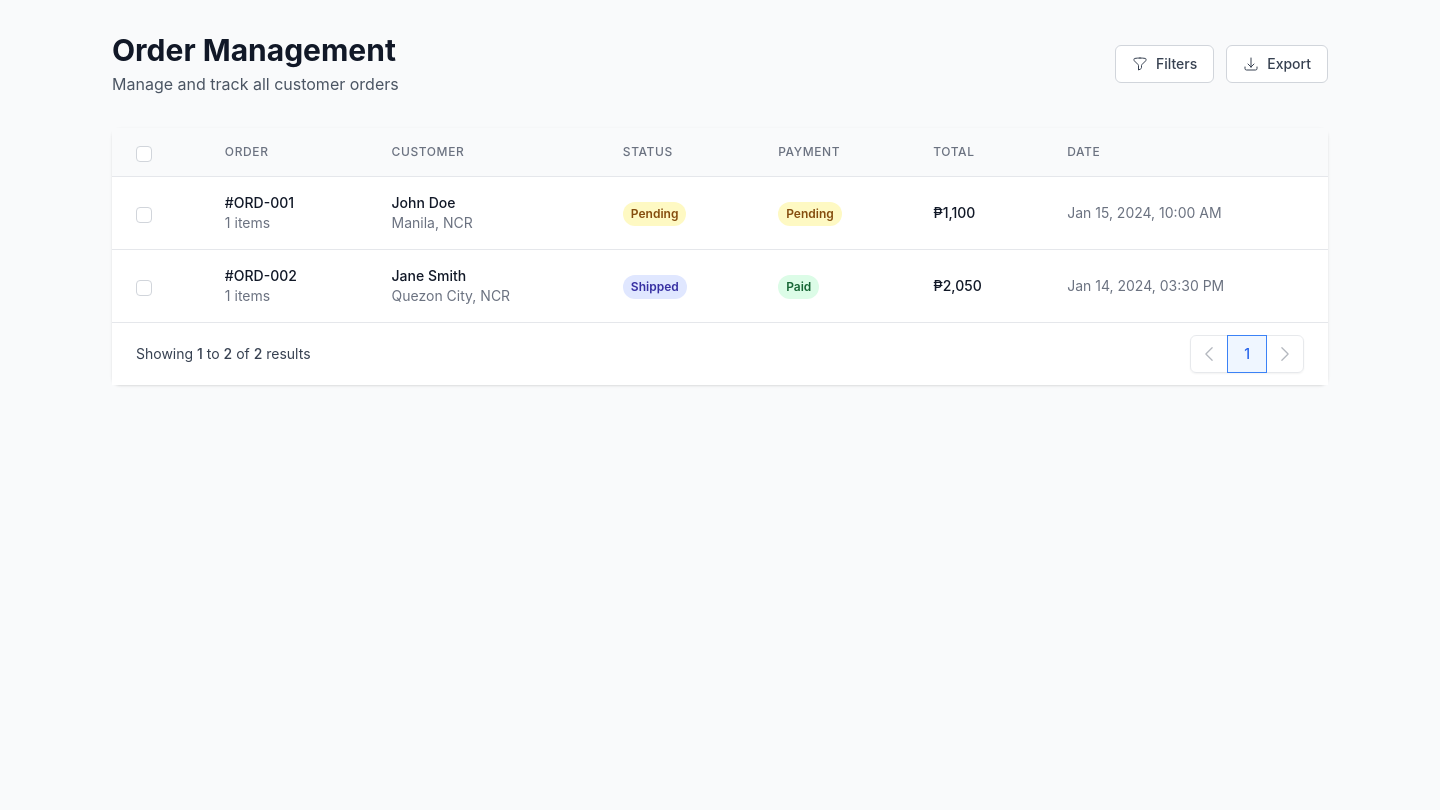
OrderManagementPage › opens filters panel when filters button is clicked
The width and height of the screenshot is (1440, 810).
Expected: the text "#ORD-001" is shown, [225,194,294,211]
Click the button "Filters" at (1165, 64), box [1115,45,1214,83]
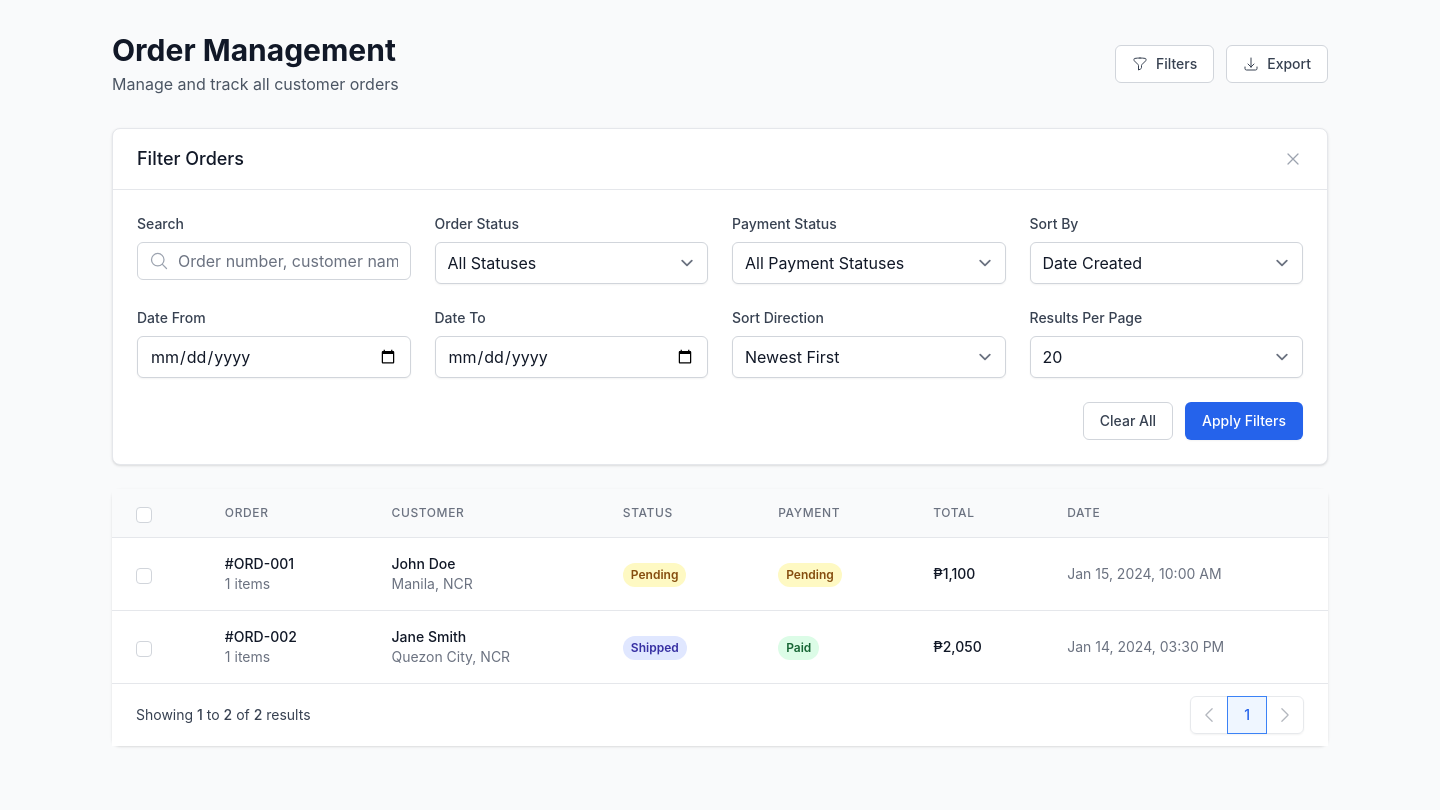
Now the heading "Filter Orders" is shown, box [137,145,244,173]
